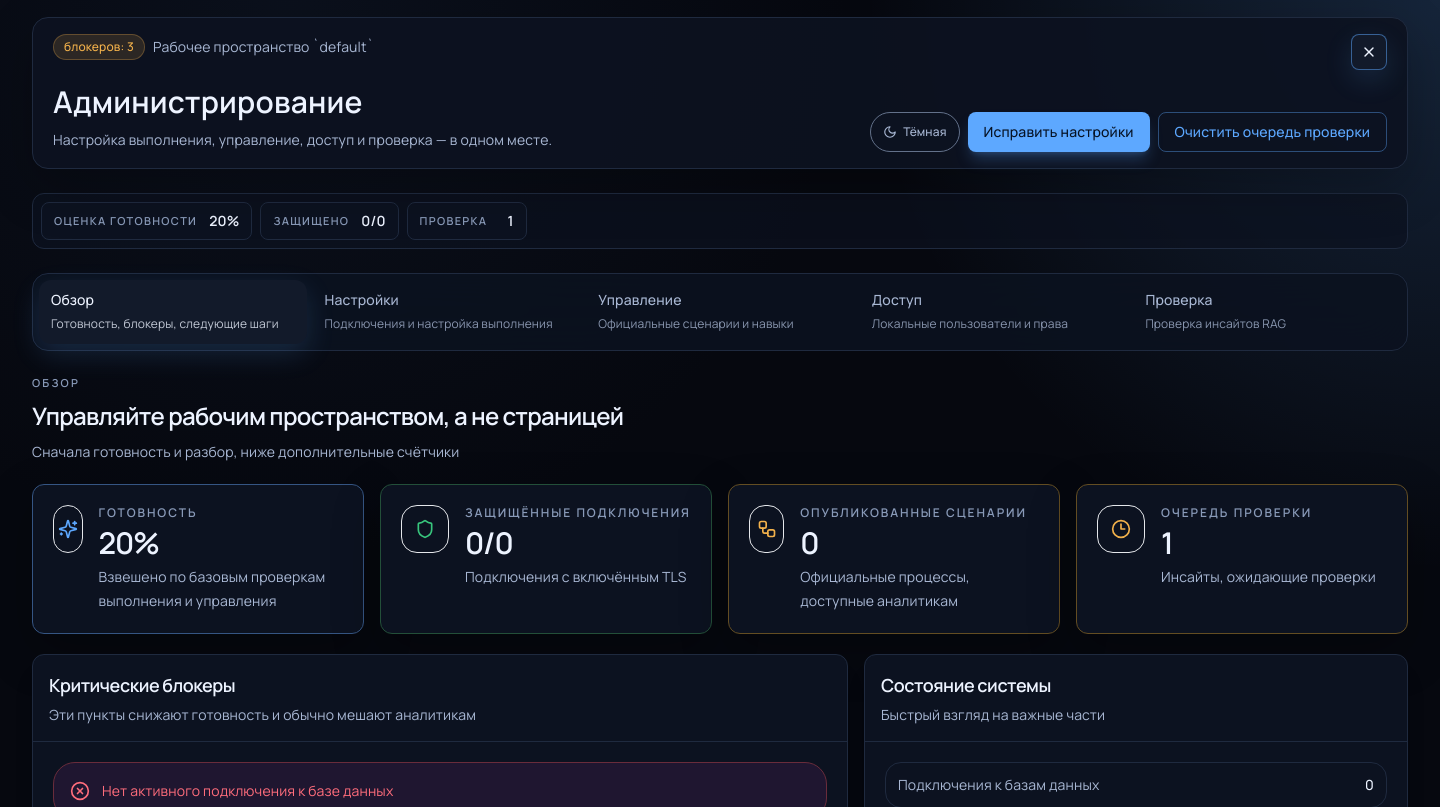
it: AdminPageClient › reviews and removes a pending insight optimistically
Click the button "Проверка Проверка инсайтов RAG".
click(1267, 312)  # box [1133,280,1401,344]
(page scrolled)
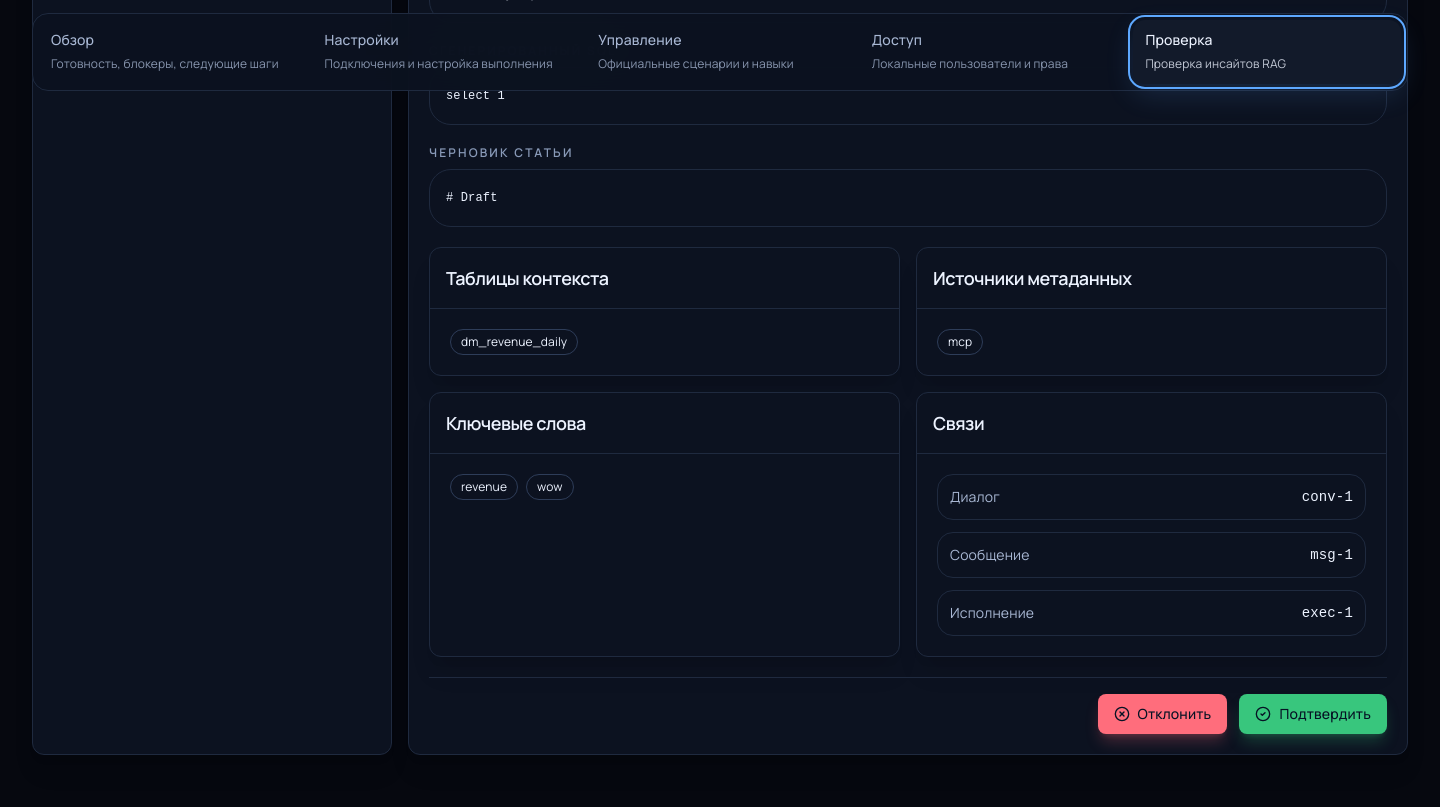
Click the button "Подтвердить".
click(1313, 714)  # box [1239,694,1387,734]
(page scrolled)
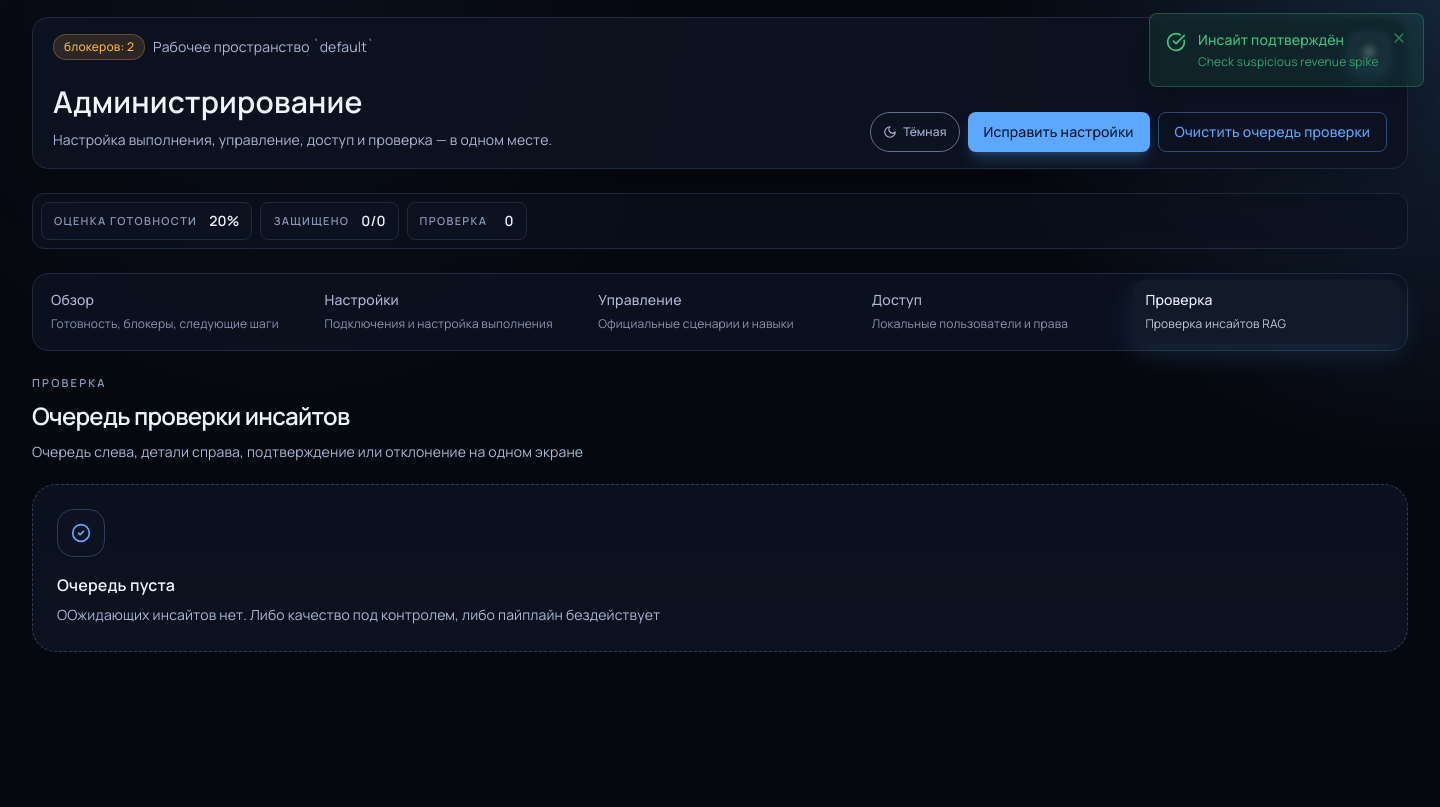
Expected: the heading "Очередь пуста" is shown, [57,574,175,596]
